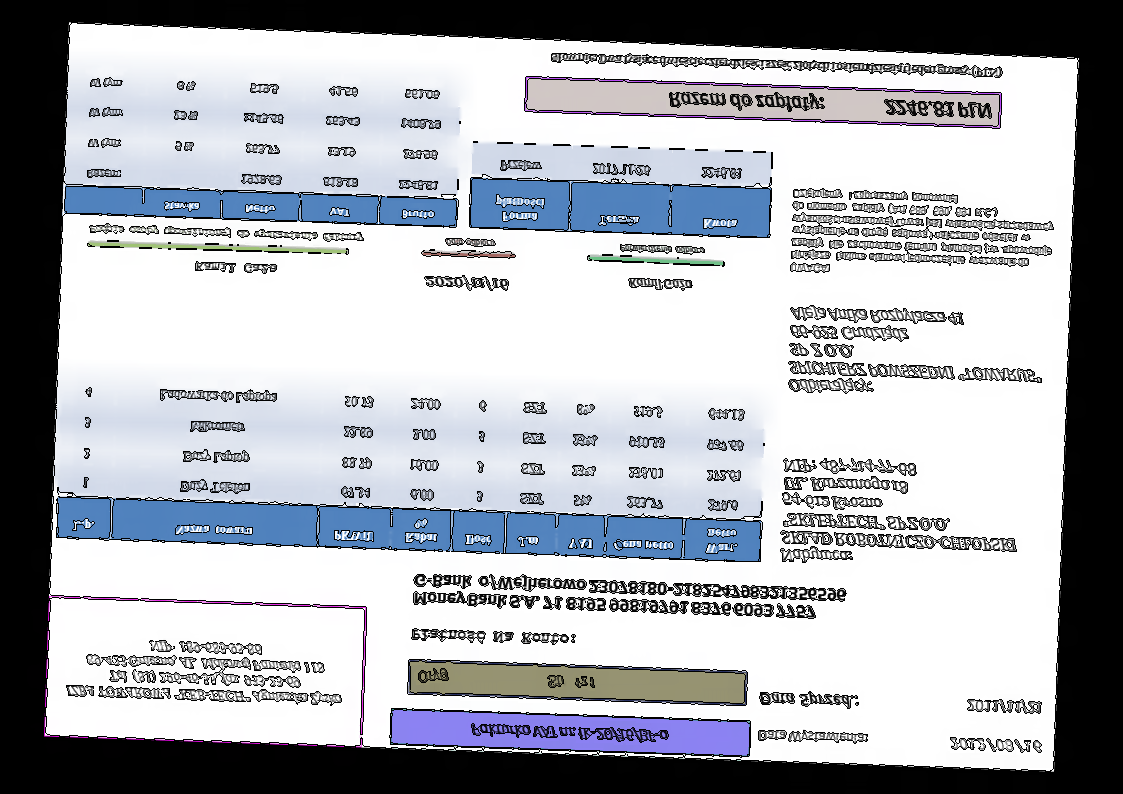Table: (54, 372, 766, 565), (63, 63, 462, 229), (468, 141, 773, 240)
TextBox: (777, 453, 1022, 573), (787, 185, 1059, 285), (784, 302, 1049, 404), (410, 569, 849, 624), (63, 634, 345, 712), (547, 49, 1004, 82), (665, 87, 995, 123), (87, 220, 366, 246), (466, 719, 672, 746), (415, 666, 598, 693), (407, 624, 577, 649), (756, 687, 867, 711), (755, 728, 871, 748), (947, 734, 1044, 756), (422, 272, 510, 294), (193, 258, 282, 277), (617, 241, 705, 259), (963, 697, 1046, 716), (624, 275, 695, 294), (442, 235, 498, 250)
